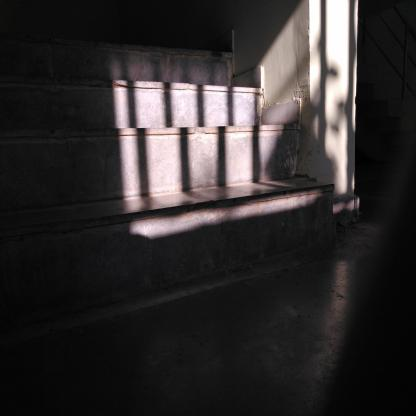stairs: (1, 45, 233, 296)
